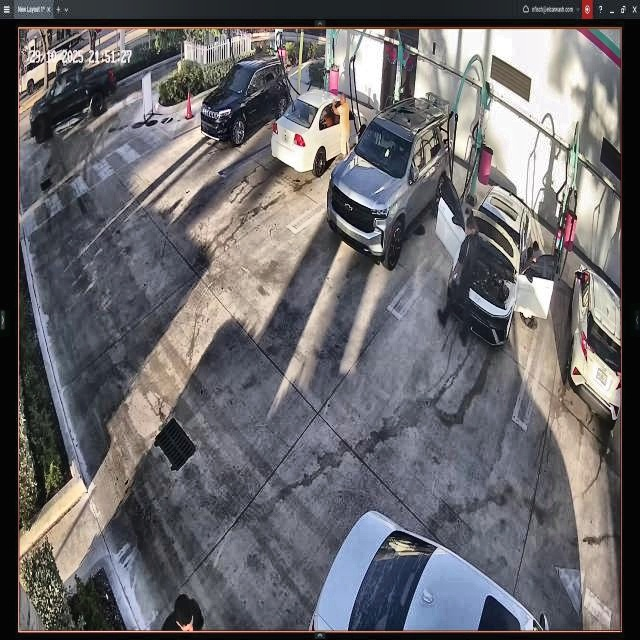Car: (330, 99, 452, 268), (441, 181, 553, 340), (272, 90, 367, 174)
